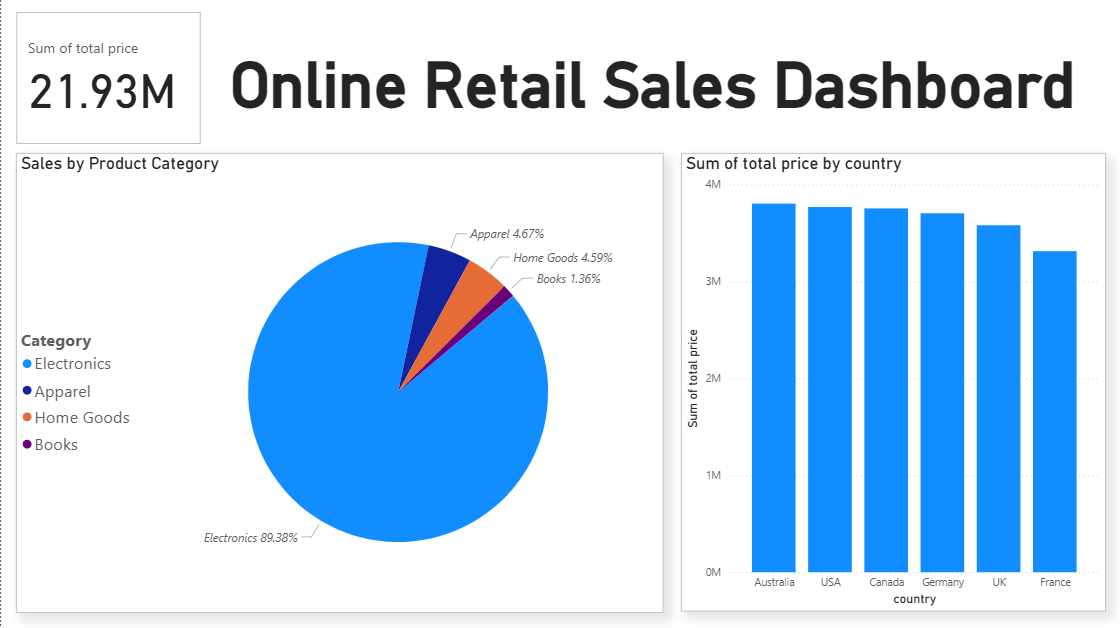

Layout of this report page (visuals, bound fields, positions):
{"tool":"powerbi","page":{"name":"Page 1","canvas":[1280,720],"ordinal":0},"visuals":[{"type":"columnChart","title":"Sum of total price by country","fields":{"Category":["processed_sales.country"],"Y":["Sum(processed_sales.total_price)"]},"box":[777.1,177.1,485.7,524.3],"z":0},{"type":"cardVisual","fields":{"Data":["Sum(processed_sales.total_price)"]},"box":[12.5,11.2,220,160],"z":1000},{"type":"pieChart","title":"Sales by Product Category","fields":{"Category":["processed_sales.category"],"Y":["Sum(processed_sales.total_price)"]},"box":[17.1,177.1,740,525.7],"z":2000},{"type":"textbox","box":[240,16.9,1010,149.2],"z":3000}]}

Visuals, with their boxes in screenshot pixels (x1, y1, x2, y2), scaled from the page's 1280x720 canvas onto the 1120x628 screenshot:
"Sum of total price by country" columnChart: detection(680, 154, 1105, 612)
cardVisual - Sum(processed_sales.total_price): detection(11, 10, 203, 149)
"Sales by Product Category" pieChart: detection(15, 154, 662, 613)
textbox: detection(210, 15, 1094, 145)
